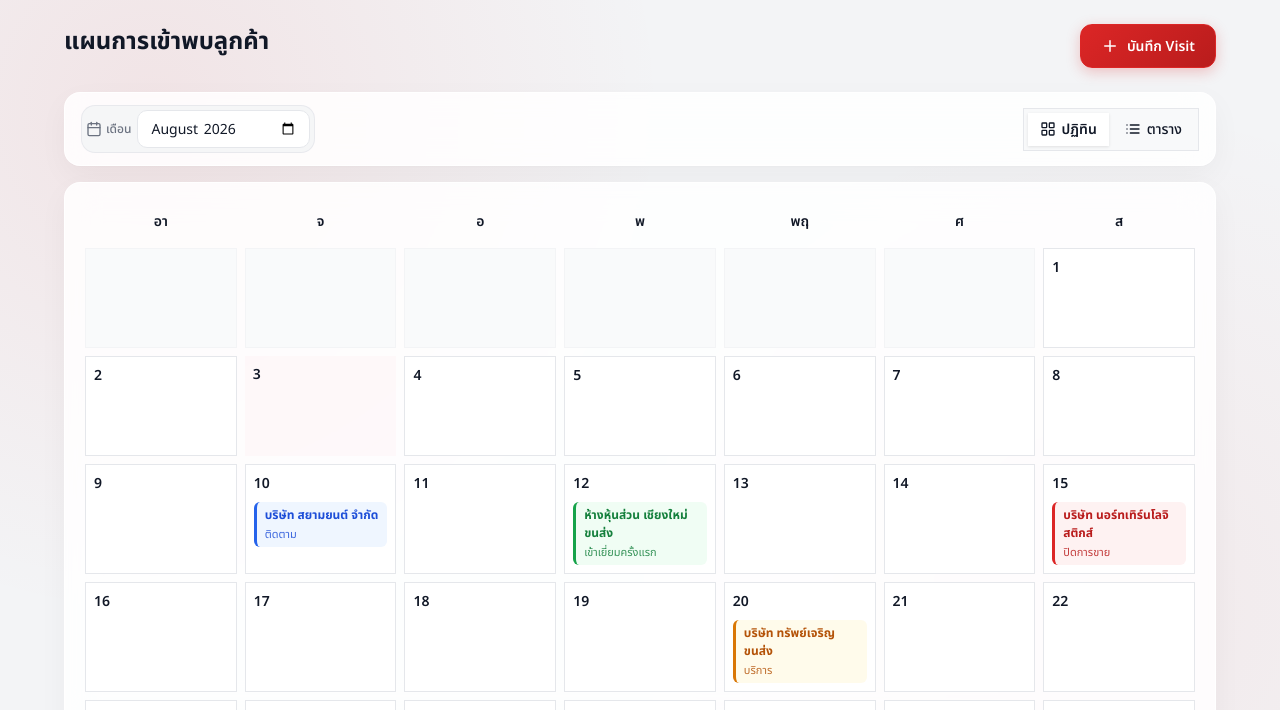
Test: VisitPlanner › renders status badges in Thai for each status in table view
Click the button "ตาราง" at (1153, 129), box [1113,112,1194,146]
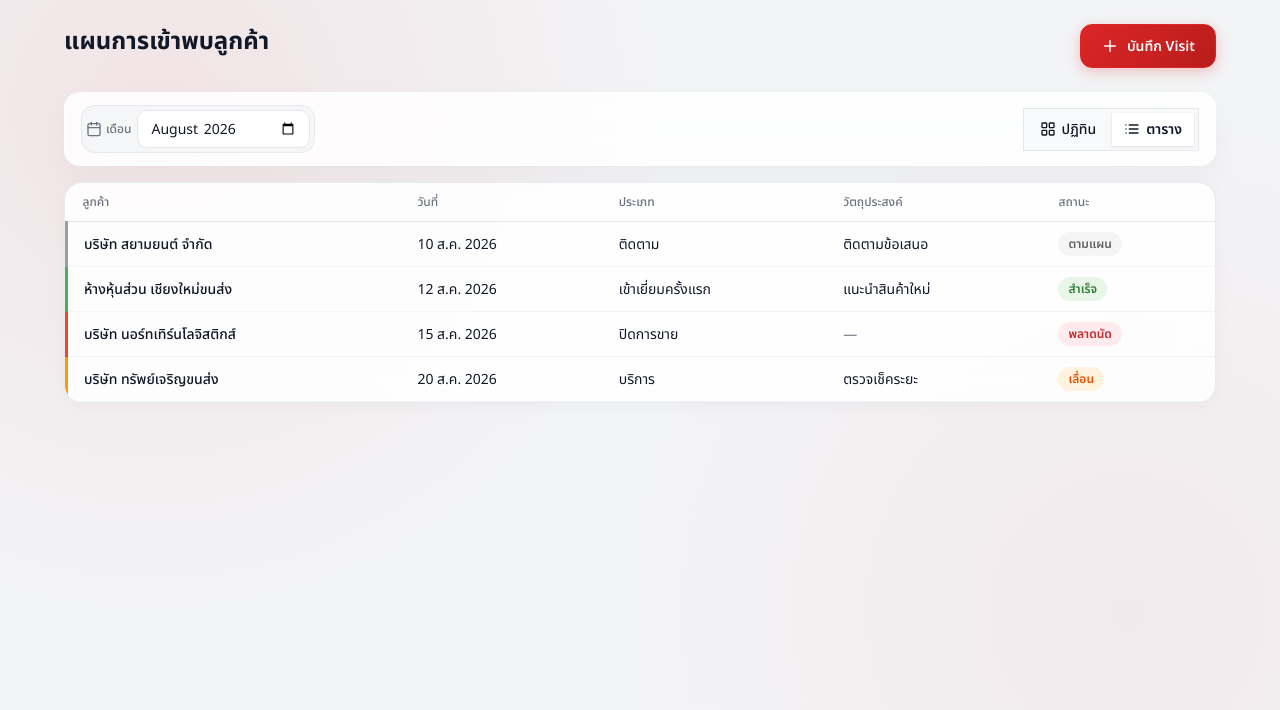
Check: the text "ตามแผน" is shown, box [1058,232,1122,256]
Check: the text "สำเร็จ" is shown, box [1058,277,1107,301]
Check: the text "พลาดนัด" is shown, box [1058,322,1122,346]
